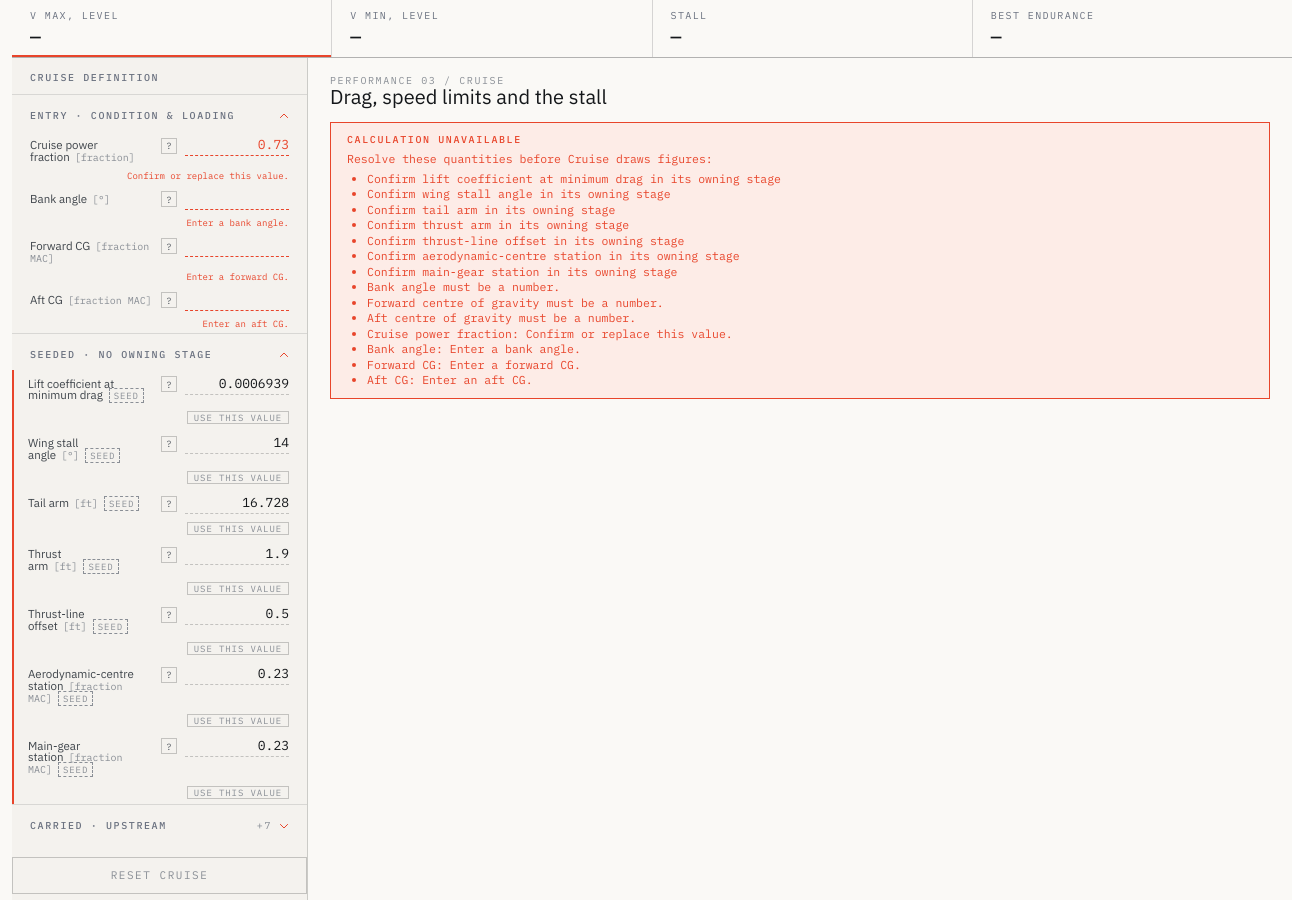
Scenario: a seeded quantity can be resolved from the sheet that needs it › typing over a seed resolves it too
Replace the text in the field with id "cr-seed-thrustArmFt" with "2.4" at (237, 555), box [185,545,289,565]
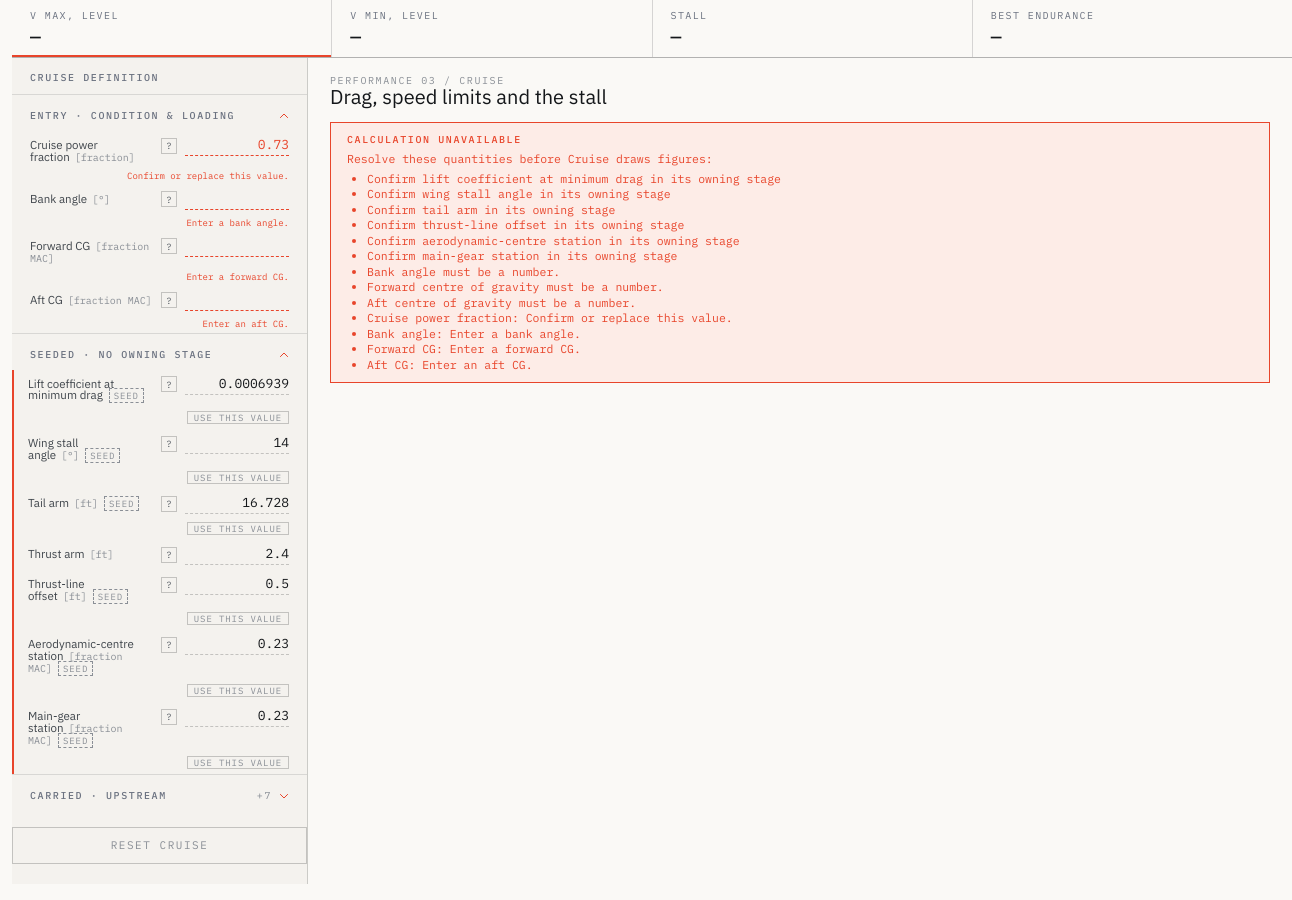
Expected: the list item "Confirm thrust arm in its owning stage" is gone
